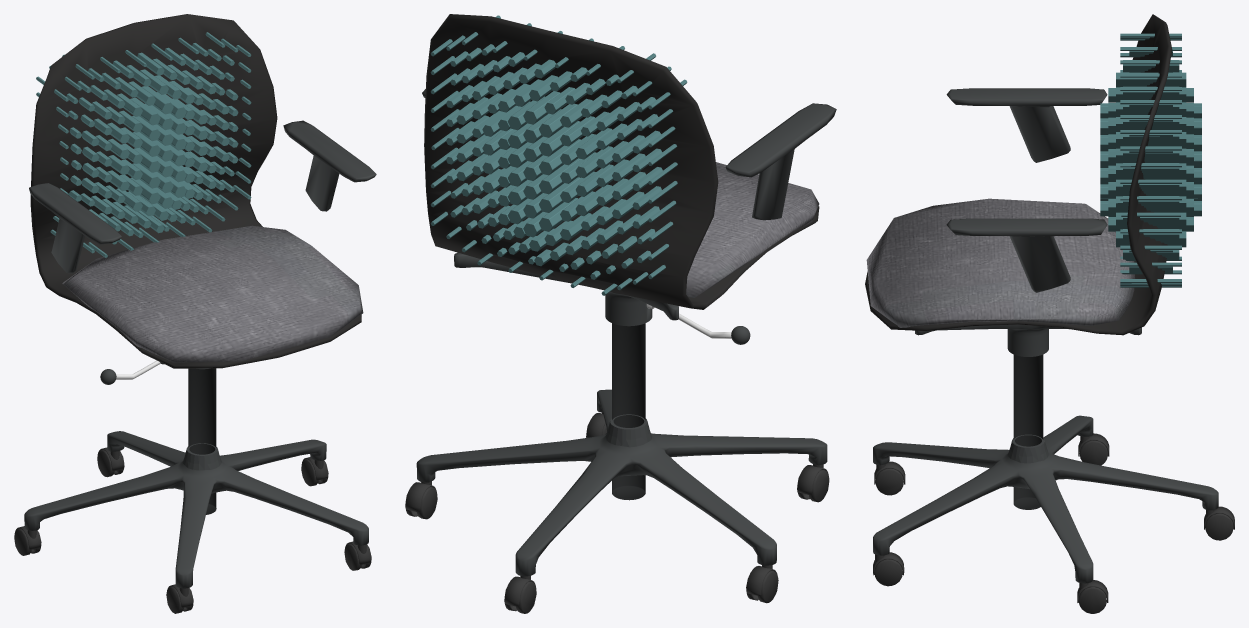
The picture shows the model from 3 angles, left to right: view 1: azimuth 30°, elevation 25°; view 2: azimuth 150°, elevation 25°; view 3: azimuth 270°, elevation 25°; orthographic projection. The views are drawn at different scales.
Parts seen in each view (by area): view 1: user-office-chair; view 2: user-office-chair; view 3: user-office-chair.
Part boxes in pixels (box(x1,y1,x2,y2)): user-office-chair: box(14, 14, 376, 613); user-office-chair: box(405, 14, 836, 613); user-office-chair: box(865, 14, 1234, 613).
Size of the model in its own units: 0.672 by 1 by 0.6826.
16 materials, 1 textured.
